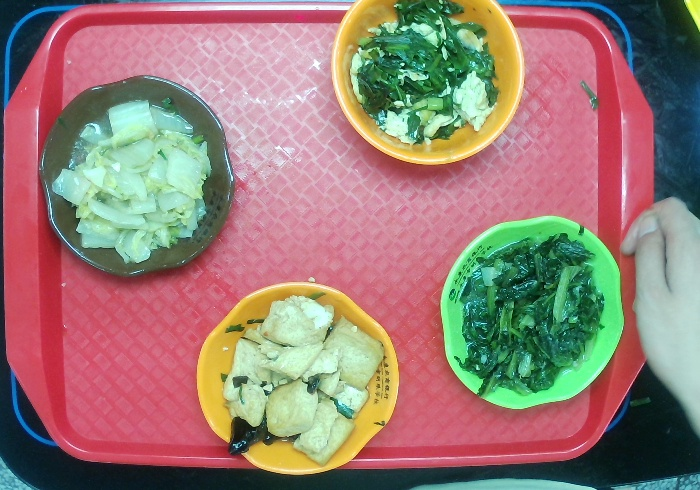YKMZ-Ju_Se_Ao_Bian_Wan: (191, 281, 401, 476)
YKMZ-Ju_Se_Yuan_Wan: (329, 1, 527, 168)
YKMZ-Ka_Fei_Ao_Bian_Wan: (37, 75, 237, 277)
YKMZ-Lv_Se_Ao_Bian_Wan: (441, 213, 628, 408)
